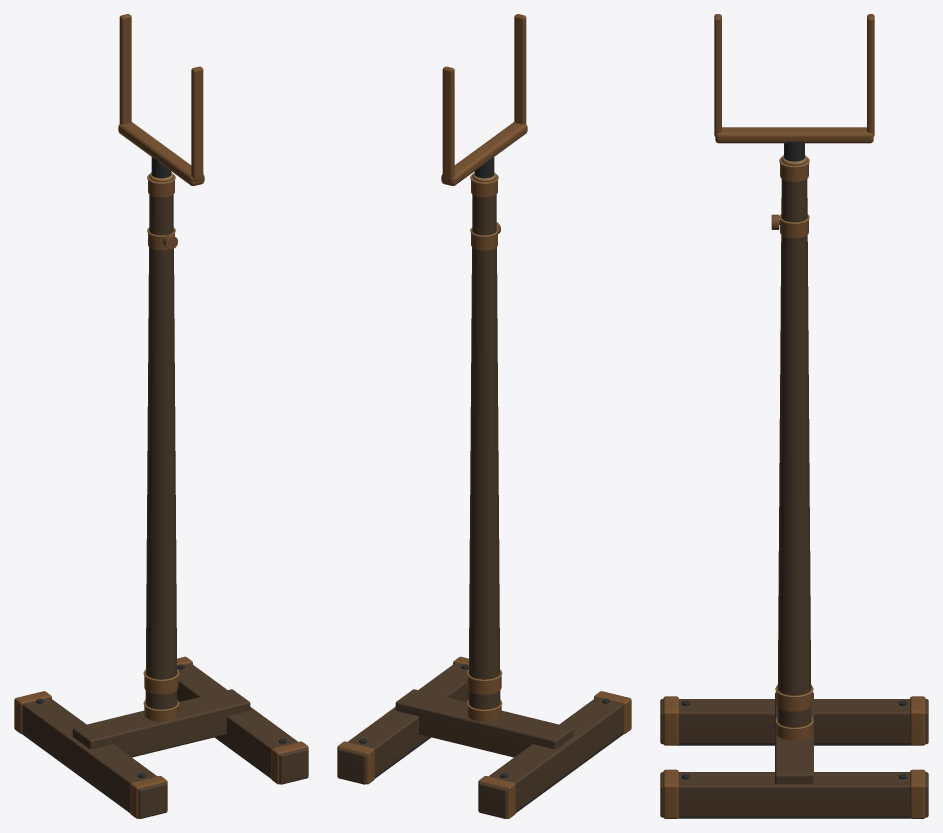
The model's file is SM_DY_LampStand_Source.fbx.
The picture shows the model from 3 angles, left to right: view 1: azimuth 30°, elevation 25°; view 2: azimuth 150°, elevation 25°; view 3: azimuth 270°, elevation 25°; orthographic projection. The views are drawn at different scales.
Visible parts, largest first — view 1: SM_DY_LampStand_Source; view 2: SM_DY_LampStand_Source; view 3: SM_DY_LampStand_Source.
Boxes of the visible parts, box(x1,y1,x2,y2) form: SM_DY_LampStand_Source: box(14, 14, 308, 818); SM_DY_LampStand_Source: box(337, 14, 631, 818); SM_DY_LampStand_Source: box(660, 14, 928, 818).
Size of the model in its own units: 0.99 by 0.784 by 3.09.
